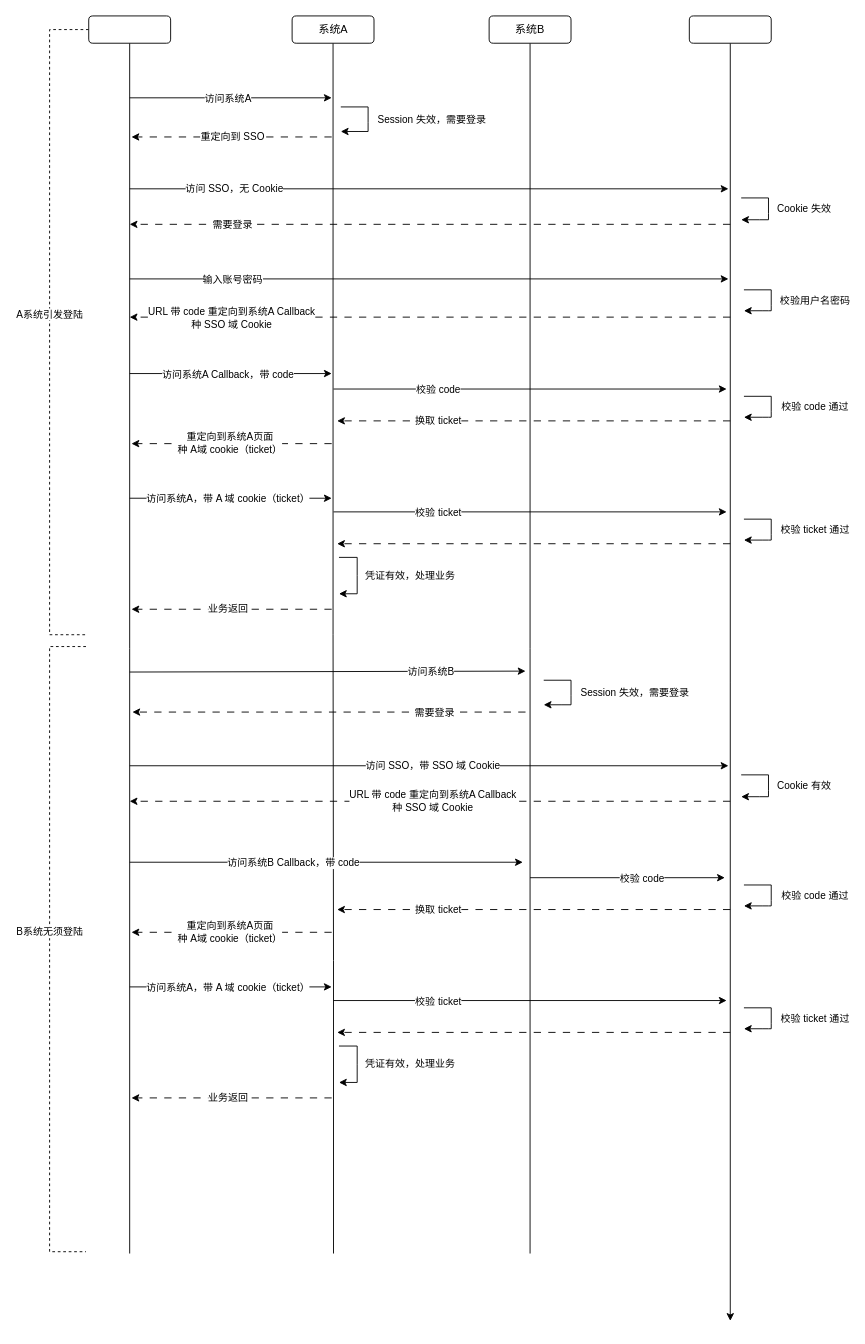
Some shapes in this 865 by 1344 pixel diagram are drawn without their labels. Here are the shapes that lost their labels. From the top down, the centre of each, then its label:
At point (129, 29): "浏览器".
At point (729, 29): "SSO".
